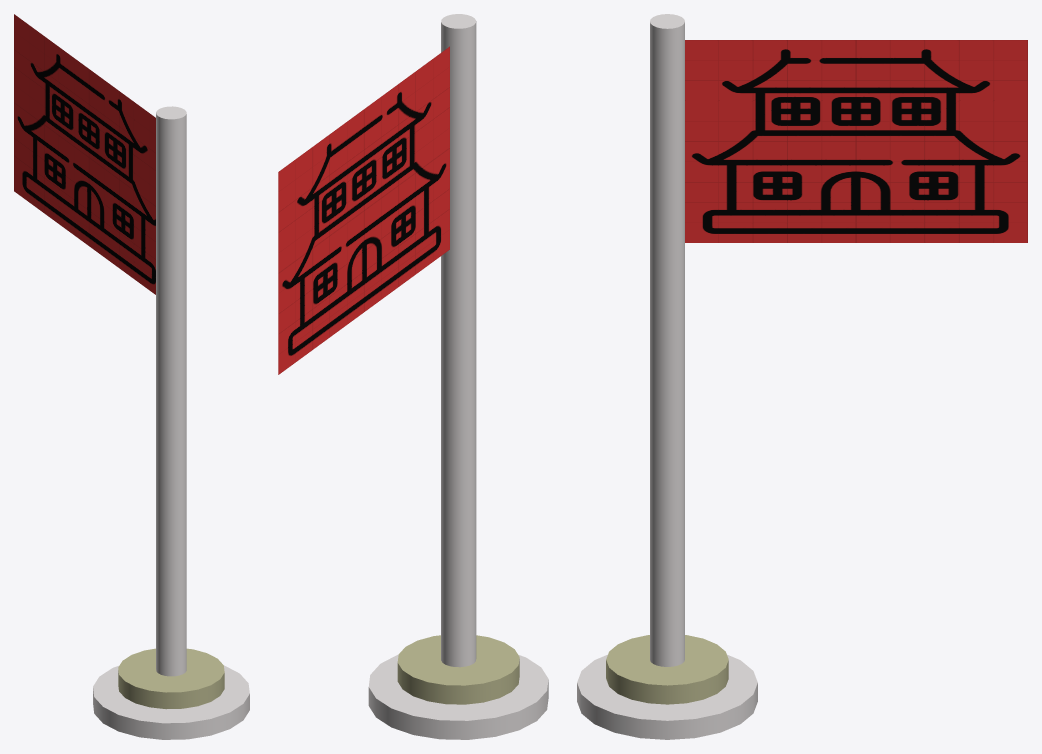
Rendered from japanese flag.fbx.
3 views of the same model, side by side, from view 1: azimuth 30°, elevation 25°; view 2: azimuth 150°, elevation 25°; view 3: azimuth 270°, elevation 25° (orthographic). The views are drawn at different scales.
Parts seen in each view (by area): view 1: pPlane1, pCylinder3, pCylinder1, pCylinder2; view 2: pPlane1, pCylinder3, pCylinder1, pCylinder2; view 3: pPlane1, pCylinder3, pCylinder1, pCylinder2.
Boxes of the visible parts, box(x1,y1,x2,y2) form: pPlane1: box(14, 14, 155, 294); pCylinder3: box(156, 106, 186, 676); pCylinder1: box(93, 665, 249, 739); pCylinder2: box(118, 648, 224, 709); pPlane1: box(278, 46, 449, 374); pCylinder3: box(441, 14, 476, 667); pCylinder1: box(368, 654, 548, 739); pCylinder2: box(397, 635, 519, 704); pPlane1: box(685, 40, 1027, 242); pCylinder3: box(650, 14, 684, 666); pCylinder1: box(577, 654, 757, 739); pCylinder2: box(606, 635, 728, 704).
Size of the model in its own units: 2.02 by 8.37 by 5.03.
4 materials, 1 textured.
